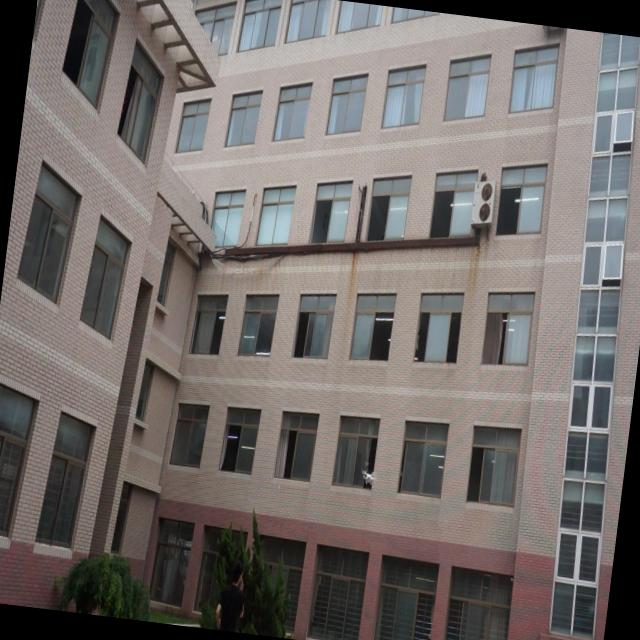drone: (358, 468, 377, 491)
